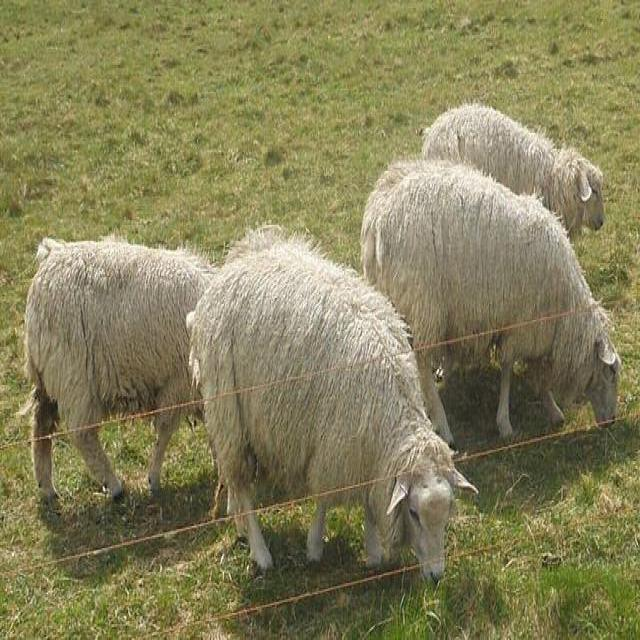Sheep: (196, 234, 480, 582), (362, 156, 619, 440), (25, 239, 216, 502), (423, 108, 606, 233)
